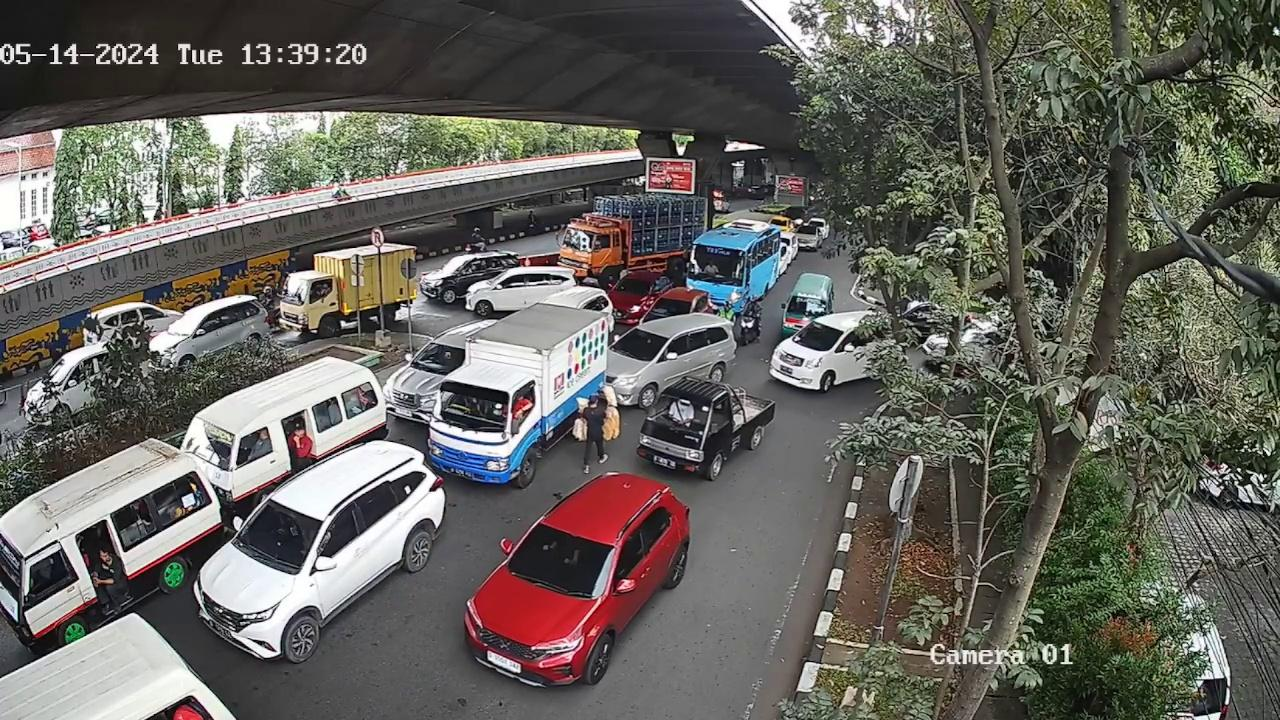pakai: (670, 402, 694, 426)
windshield: (518, 520, 618, 600), (227, 501, 327, 566), (434, 382, 535, 435), (177, 417, 238, 470), (646, 393, 710, 434), (613, 325, 667, 363), (411, 342, 464, 370), (793, 325, 843, 347)
